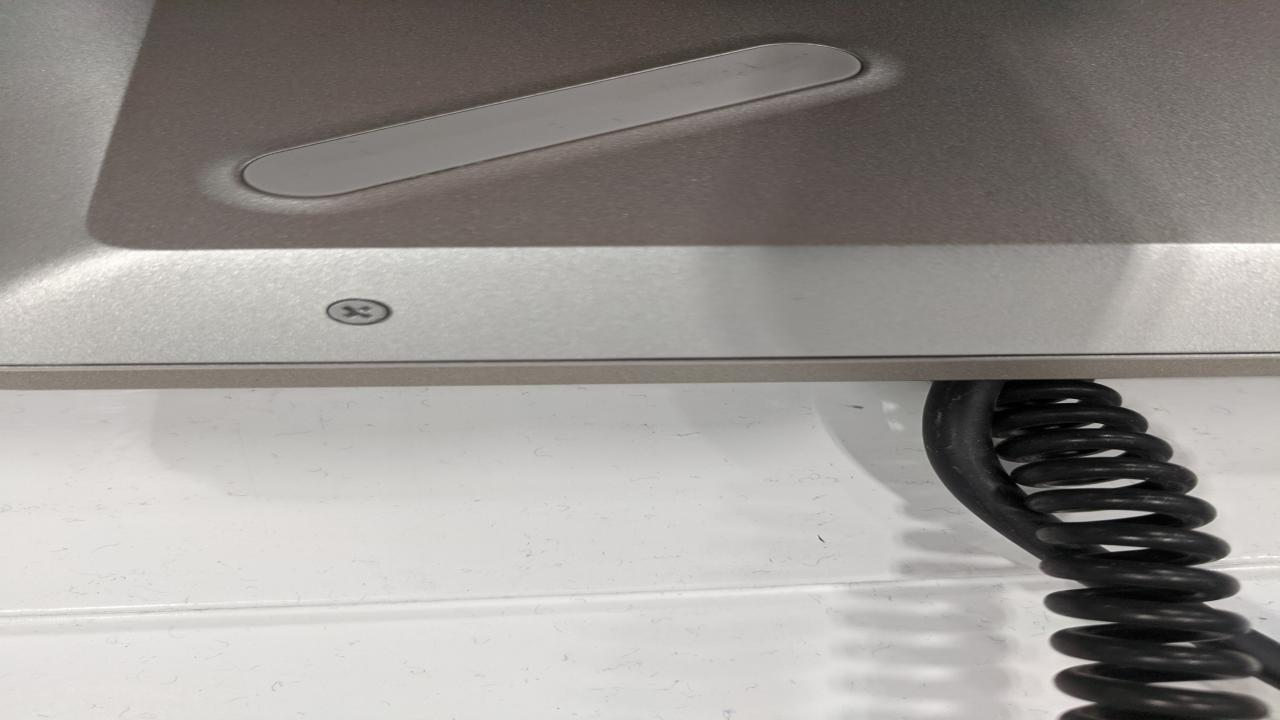CRS: (328, 300, 394, 324)
